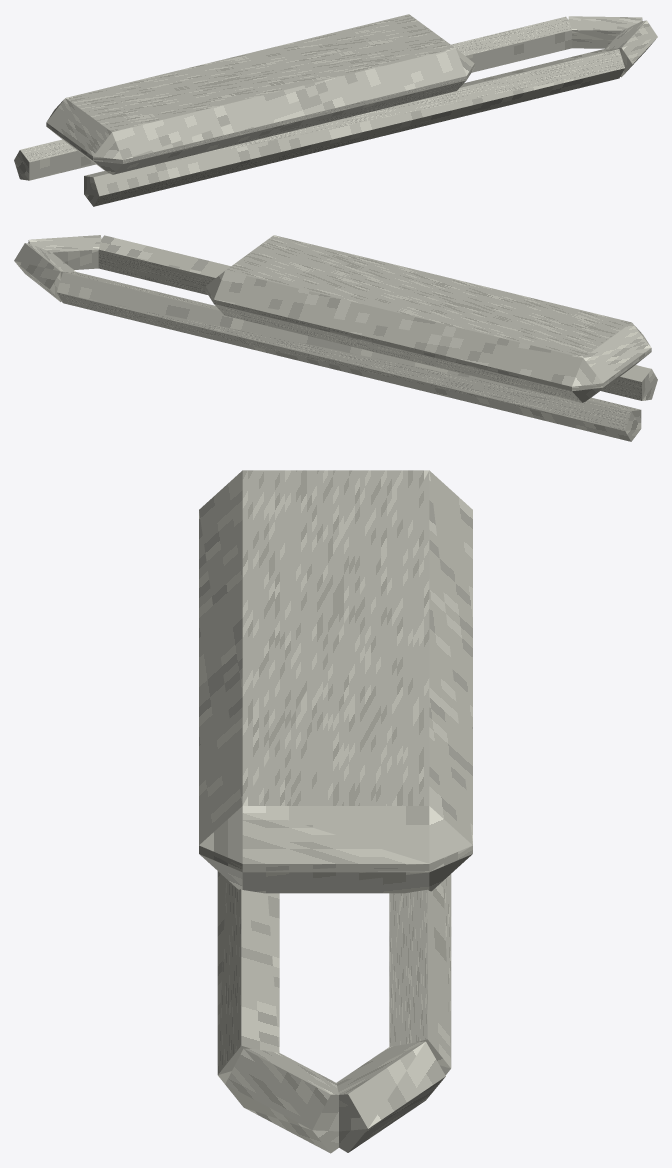
Rendered from tieclip.glb.
3 renders of one model, top to bottom at view 1: azimuth 30°, elevation 25°; view 2: azimuth 150°, elevation 25°; view 3: azimuth 270°, elevation 25°, orthographic. The views are drawn at different scales.
Parts seen in each view (by area): view 1: block_decorative clip, block_spring pin 3, block_spring pin 0, block_spring pin 1, block_spring pin 2; view 2: block_decorative clip, block_spring pin 0, block_spring pin 3, block_spring pin 1, block_spring pin 2; view 3: block_decorative clip, block_spring pin 3, block_spring pin 0, block_spring pin 2, block_spring pin 1.
Part boxes in pixels (x1=…): block_decorative clip: x1=46, y1=14, x2=474, y2=174; block_spring pin 3: x1=84, y1=48, x2=624, y2=206; block_spring pin 0: x1=14, y1=16, x2=571, y2=180; block_spring pin 1: x1=568, y1=16, x2=642, y2=48; block_spring pin 2: x1=606, y1=20, x2=657, y2=77; block_decorative clip: x1=205, y1=235, x2=651, y2=402; block_spring pin 0: x1=56, y1=272, x2=641, y2=441; block_spring pin 3: x1=98, y1=235, x2=657, y2=400; block_spring pin 1: x1=14, y1=243, x2=75, y2=301; block_spring pin 2: x1=28, y1=235, x2=101, y2=269; block_decorative clip: x1=199, y1=470, x2=472, y2=893; block_spring pin 3: x1=217, y1=871, x2=279, y2=1101; block_spring pin 0: x1=389, y1=874, x2=451, y2=1075; block_spring pin 2: x1=225, y1=1048, x2=338, y2=1153; block_spring pin 1: x1=336, y1=1041, x2=445, y2=1152.
Size of the model in its own units: 0.0616 by 0.00674 by 0.012.
Materials: 1 (1 with a texture image).
